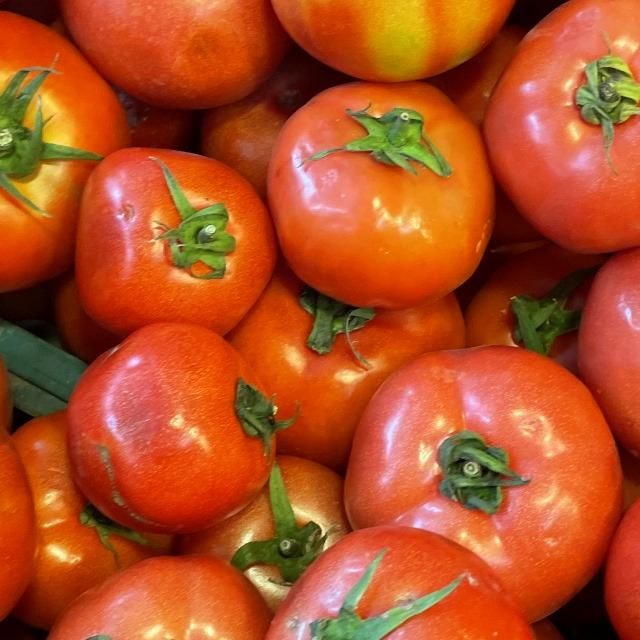tomato: (55, 125, 300, 355), (58, 308, 295, 540), (472, 0, 640, 270), (0, 0, 147, 292), (240, 520, 550, 640), (260, 0, 530, 95), (52, 0, 315, 95)
